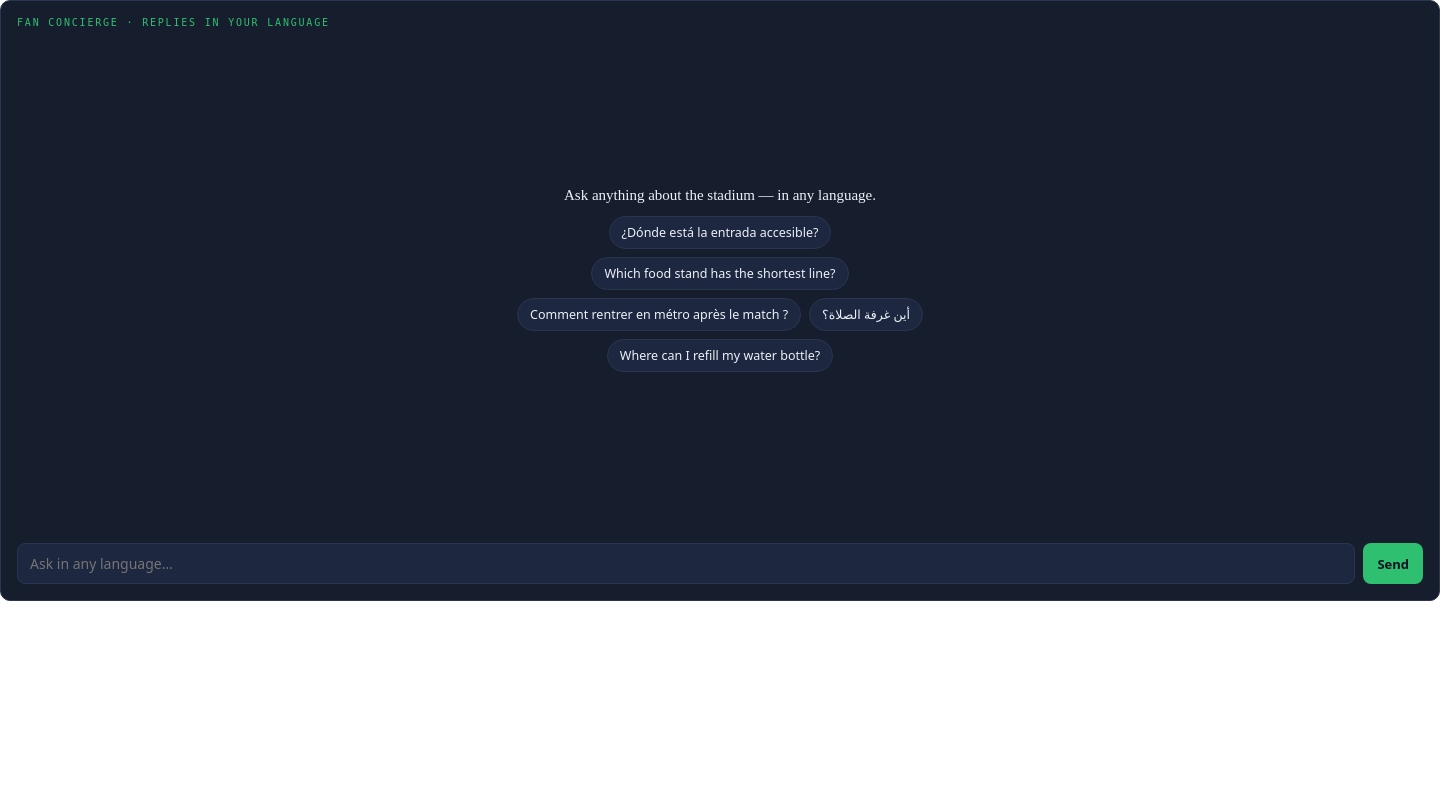
Test: Concierge › sends a typed message and renders the AI reply
This screenshot has width=1440, height=810.
Type "accessible entrance?" into the field named "message the fan concierge". click: x=686, y=564
box: [17,543,1355,584]
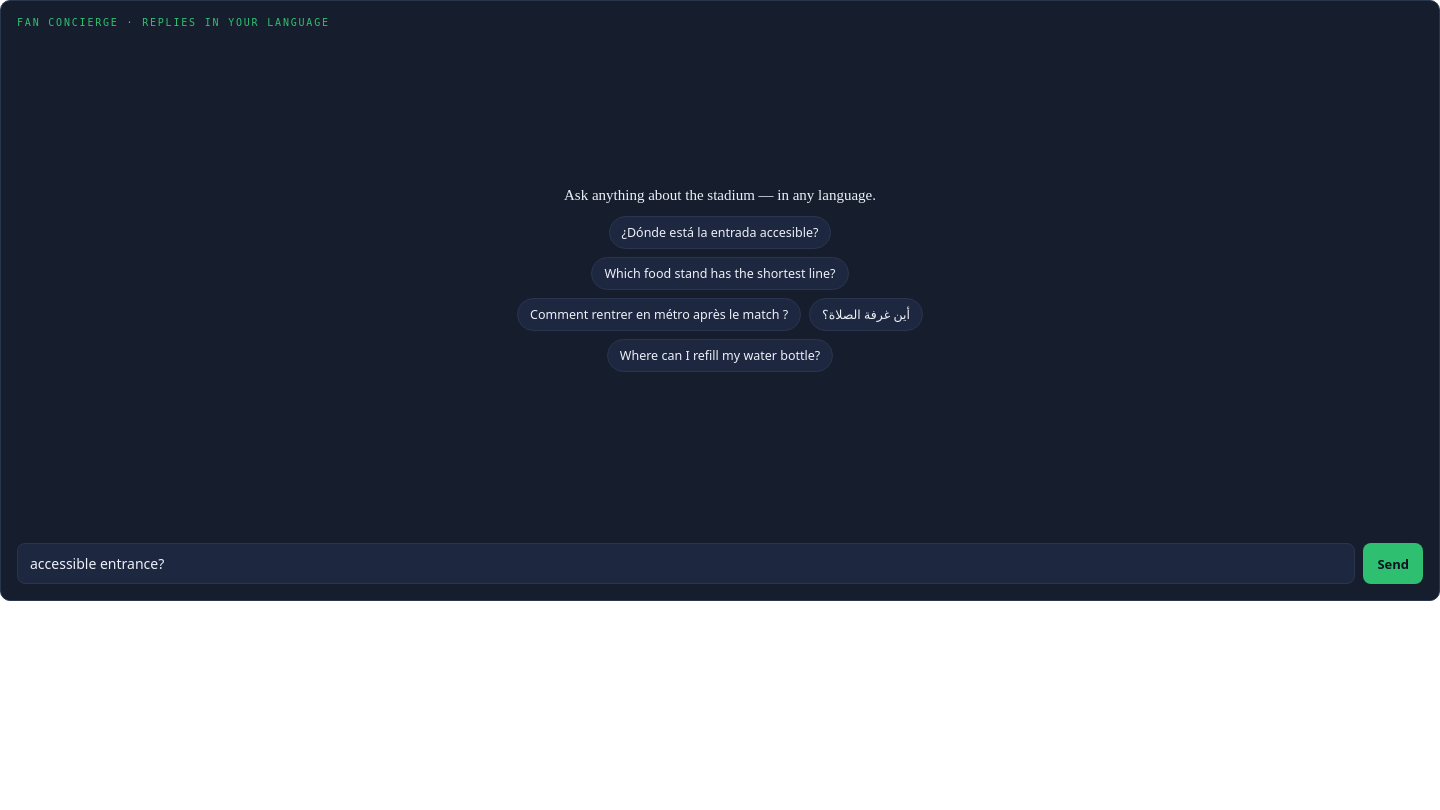
Press Enter in the field named "message the fan concierge", box [17,543,1355,584]
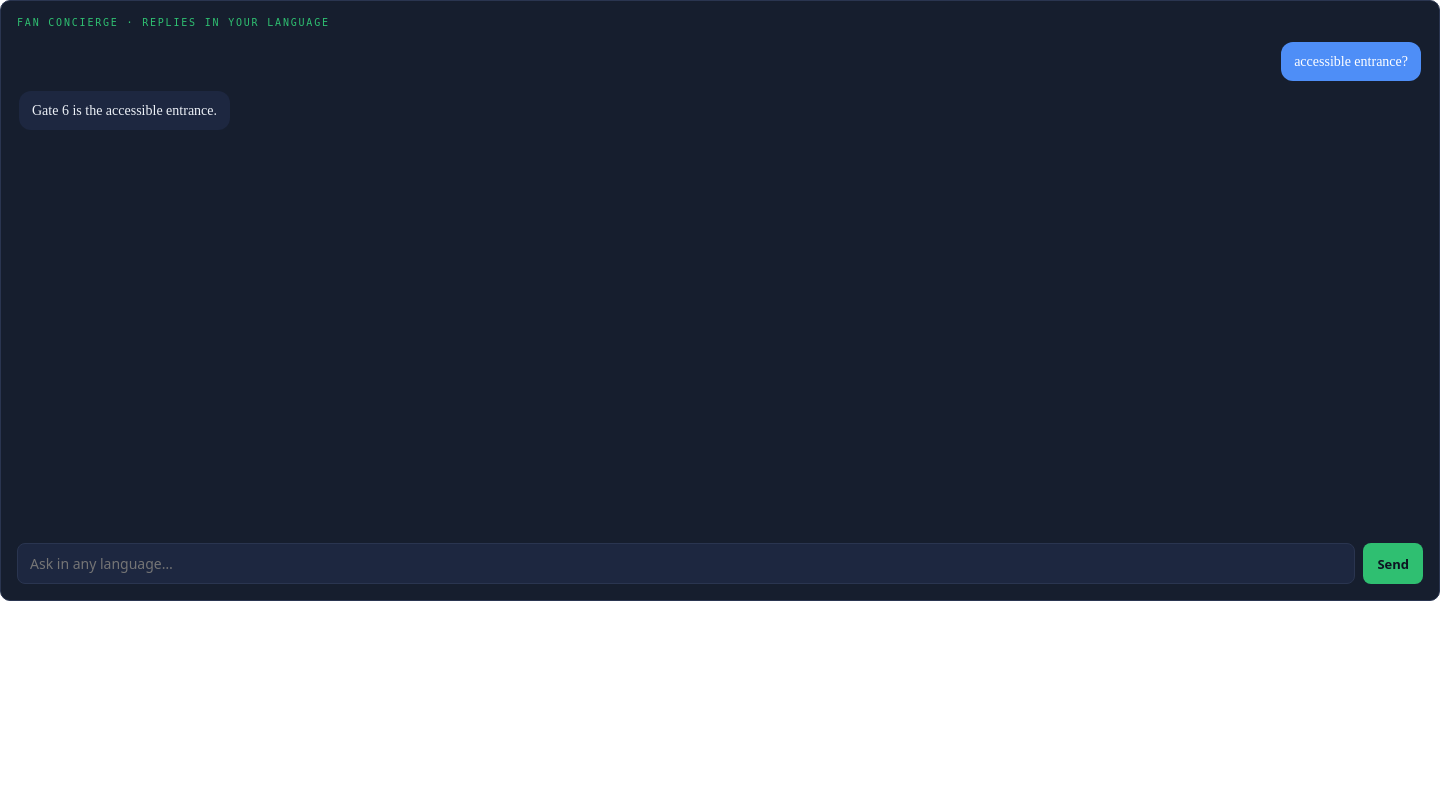
expect the text "accessible entrance?" is shown: met, box [1281,42,1421,81]
expect the text "Gate 6 is the accessible entrance." is shown: met, box [19,91,230,130]
